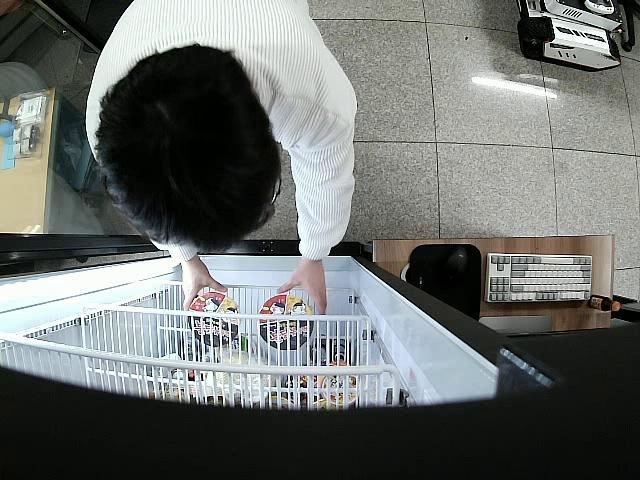07_buldak_L: (188, 292, 241, 347), (260, 298, 314, 351)
